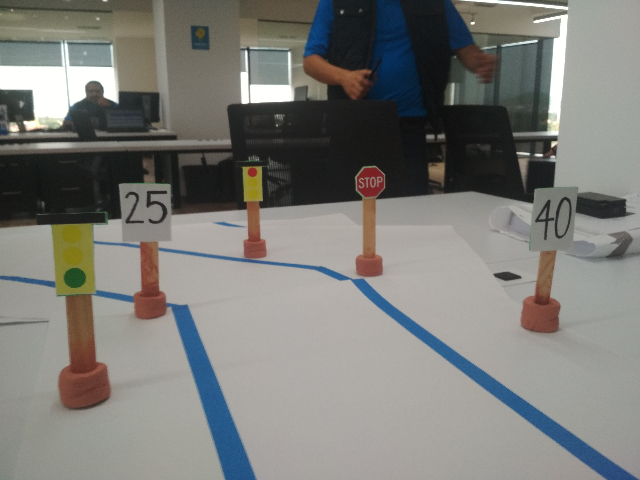Green Traffic Light: (31, 209, 110, 297)
Red Traffic Light: (231, 157, 269, 203)
Speed Limit 25: (116, 181, 174, 243)
Speed Limit 40: (527, 186, 581, 253)
Stop Sign: (354, 164, 387, 197)
